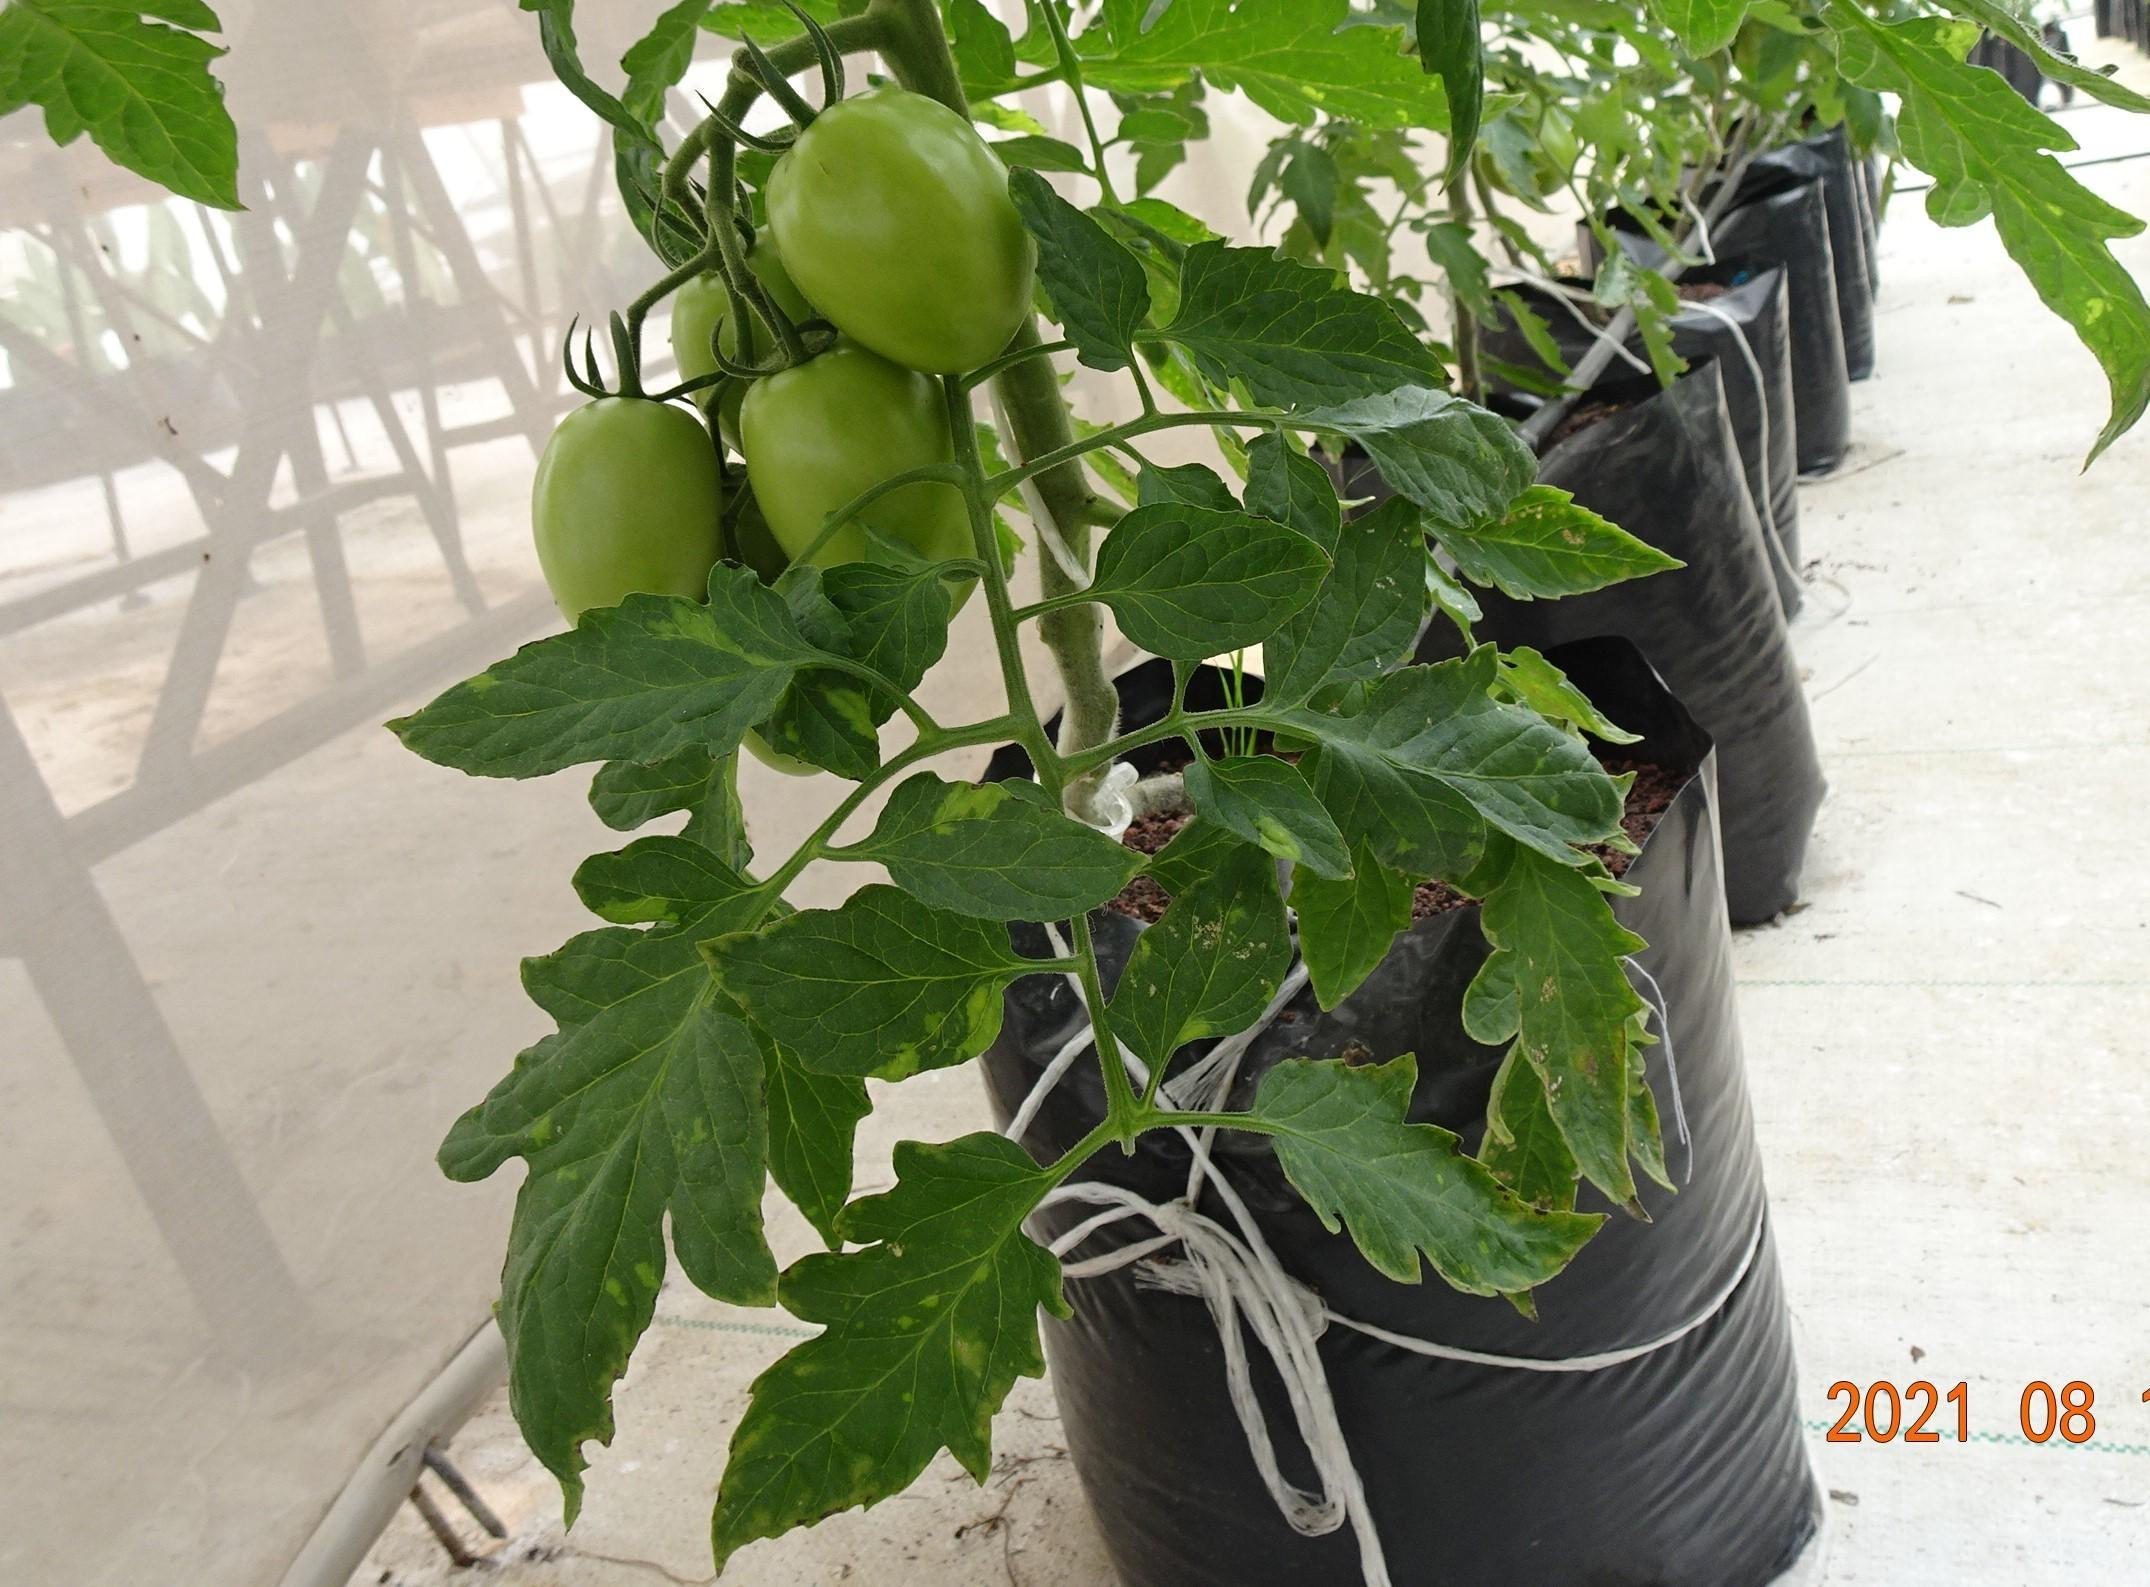Hoja: (696, 884, 1082, 1085), (1162, 237, 1461, 411), (1013, 502, 1334, 661)
Hoja rugoso: (441, 928, 776, 1512), (714, 1133, 1062, 1562), (399, 567, 836, 778), (1247, 1055, 1599, 1293), (1461, 844, 1643, 1205), (1103, 844, 1292, 1106), (836, 773, 1138, 919), (1178, 729, 1357, 879)
Pedunculo: (946, 372, 1068, 808), (988, 414, 1314, 506), (1070, 914, 1137, 1156)
Tomate Rugoso: (765, 82, 1027, 374), (529, 395, 724, 627), (738, 350, 930, 559)
